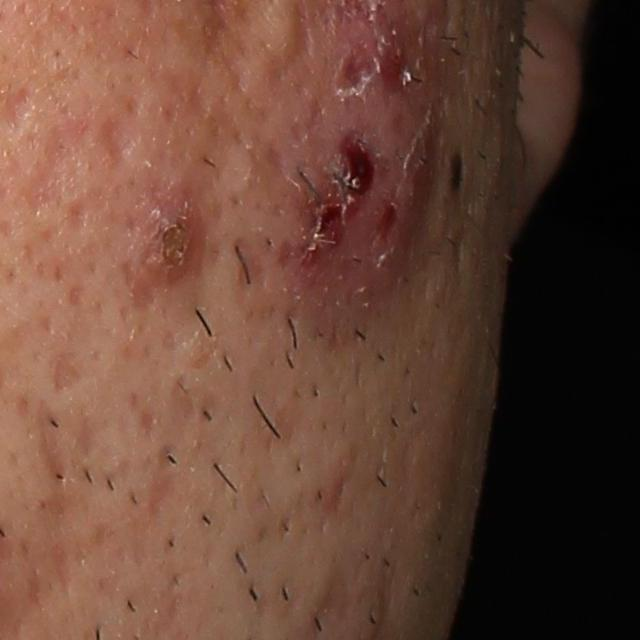atrophic_scar: (21, 110, 102, 218), (37, 397, 68, 489), (2, 73, 40, 141), (94, 114, 139, 168), (49, 349, 87, 394)
papule: (129, 189, 199, 286)
